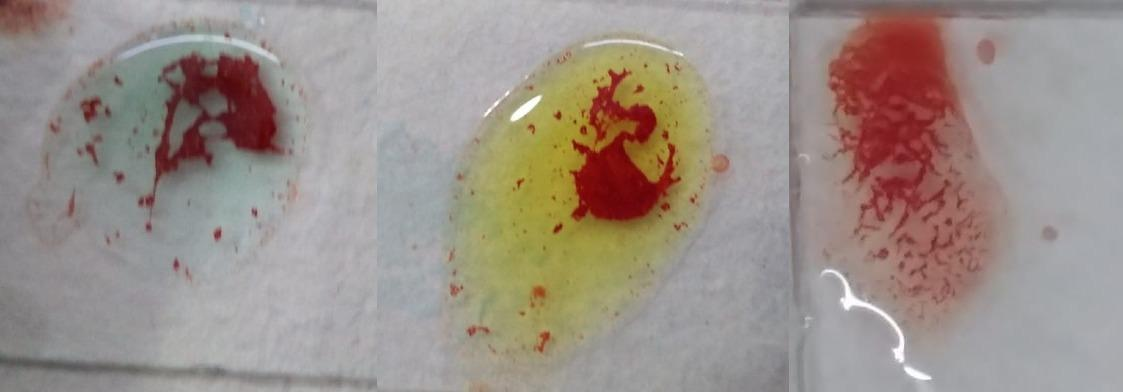A: (36, 21, 303, 297)
B: (451, 35, 713, 364)
D: (815, 21, 1007, 368)
